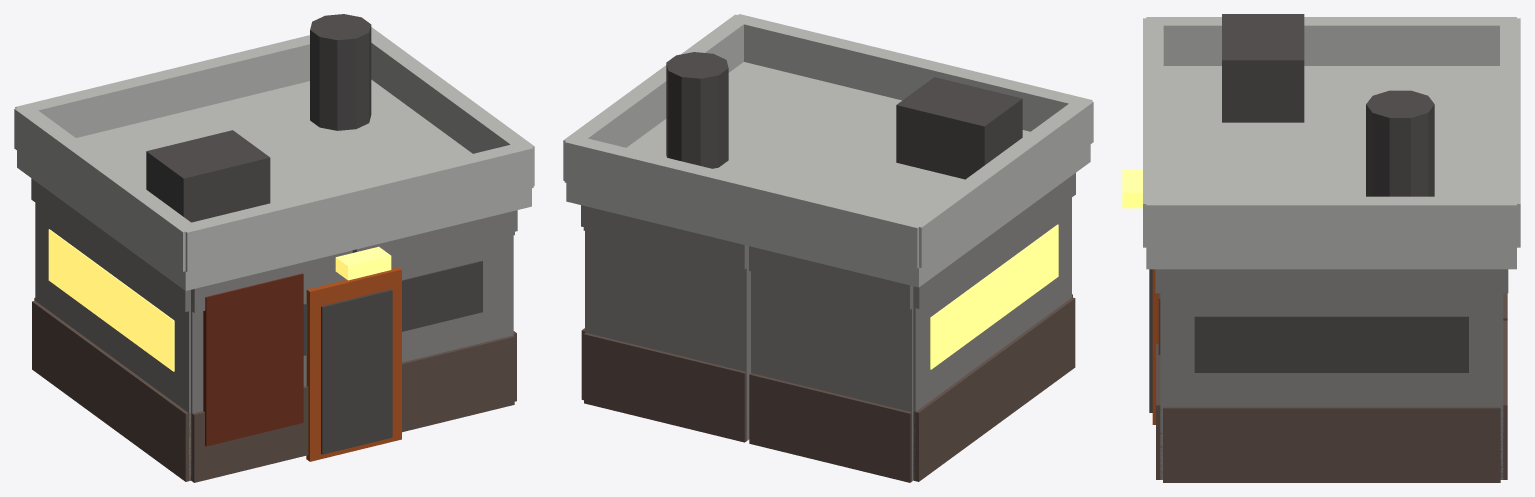
Rendered from B_checkpoint.glb.
3 views of the same model, side by side, from view 1: azimuth 30°, elevation 25°; view 2: azimuth 150°, elevation 25°; view 3: azimuth 270°, elevation 25° (orthographic). The views are drawn at different scales.
Visible parts, largest first — view 1: Cube.027, Cube.028, Cube.018, Cube.029, Cube.013, Cube.022, Cube.030, Cube.012, Cube.032, Cube.004, Cube.003, Cube.031 (+10 smaller); view 2: Cube.027, Cube.029, Cube.009, Cube.006, Cube.013, Cube.028, Cube.010, Cube.007, Cube.030, Cube.032, Cube.012, Cube.026 (+5 smaller); view 3: Cube.027, Cube.016, Cube.015, Cube.031, Cube.025, Cube.030, Cube.017, Cube.032, Cylinder, Cube.028, Cube.029, Cube.010 (+6 smaller).
Boxes of the visible parts, left/top/right/bottom form: Cube.027: left=17, top=79, right=531, bottom=290; Cube.028: left=178, top=141, right=533, bottom=272; Cube.018: left=203, top=273, right=303, bottom=446; Cube.029: left=15, top=35, right=309, bottom=137; Cube.013: left=32, top=301, right=190, bottom=481; Cube.022: left=321, top=289, right=392, bottom=454; Cube.030: left=14, top=108, right=198, bottom=271; Cube.012: left=35, top=203, right=190, bottom=480; Cube.032: left=146, top=130, right=270, bottom=222; Cube.004: left=402, top=335, right=514, bottom=432; Cube.003: left=353, top=235, right=512, bottom=362; Cube.031: left=371, top=27, right=534, bottom=185; Cube.027: left=566, top=62, right=1090, bottom=287; Cube.029: left=564, top=135, right=926, bottom=268; Cube.009: left=585, top=231, right=750, bottom=440; Cube.006: left=751, top=271, right=913, bottom=481; Cube.013: left=913, top=297, right=1075, bottom=481; Cube.028: left=730, top=14, right=1092, bottom=131; Cube.010: left=584, top=333, right=746, bottom=442; Cube.007: left=749, top=373, right=911, bottom=482; Cube.030: left=910, top=101, right=1093, bottom=267; Cube.032: left=896, top=77, right=1022, bottom=179; Cube.012: left=913, top=197, right=1071, bottom=480; Cube.026: left=930, top=224, right=1058, bottom=369; Cube.027: left=1146, top=66, right=1516, bottom=269; Cube.016: left=1163, top=406, right=1500, bottom=482; Cube.015: left=1163, top=296, right=1500, bottom=406; Cube.031: left=1146, top=196, right=1516, bottom=248; Cube.025: left=1194, top=316, right=1468, bottom=372; Cube.030: left=1146, top=17, right=1516, bottom=65; Cube.017: left=1163, top=269, right=1500, bottom=296; Cube.032: left=1222, top=14, right=1304, bottom=122; Cylinder: left=1366, top=90, right=1434, bottom=196; Cube.028: left=1143, top=18, right=1163, bottom=247; Cube.029: left=1500, top=18, right=1520, bottom=247; Cube.010: left=1500, top=320, right=1507, bottom=479.
Bounding box in the file's own units: 6.5 × 5.6 × 5.8.
